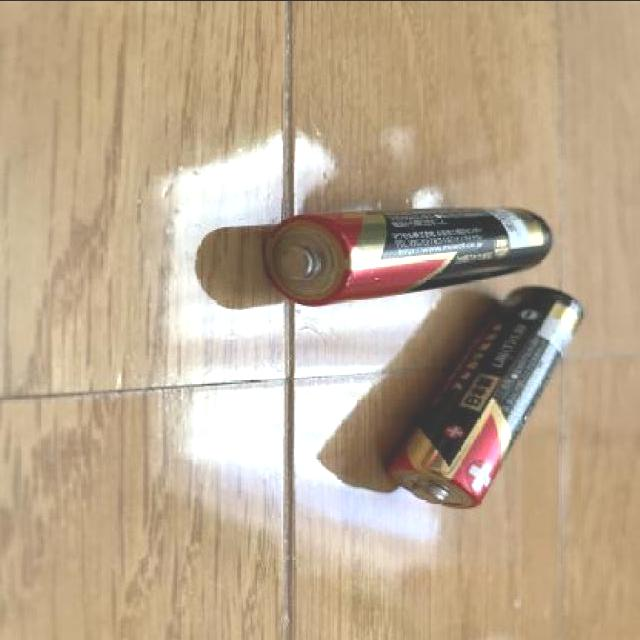AA: (383, 286, 588, 511), (256, 196, 558, 310)
